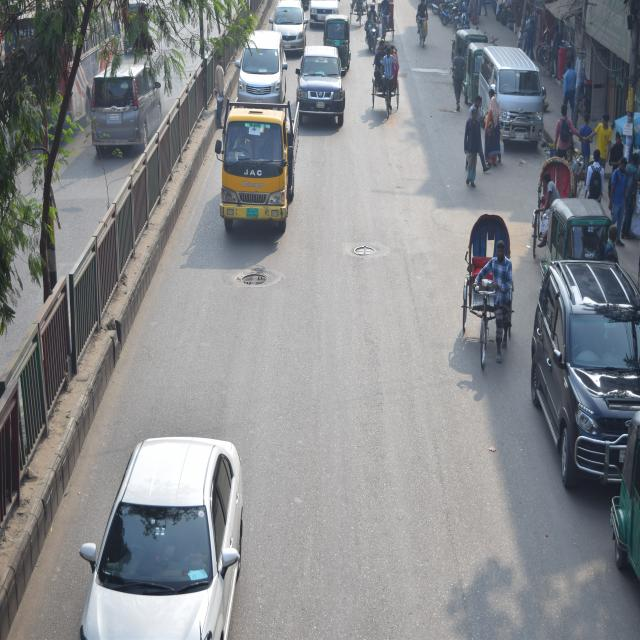car: (73, 423, 258, 640), (529, 256, 640, 503), (295, 39, 347, 131), (273, 0, 311, 44)
microbus: (89, 54, 164, 159), (481, 44, 546, 154), (237, 21, 284, 99)
motorbike: (476, 91, 506, 175), (360, 0, 385, 57)
pickup-van: (213, 96, 300, 236)
